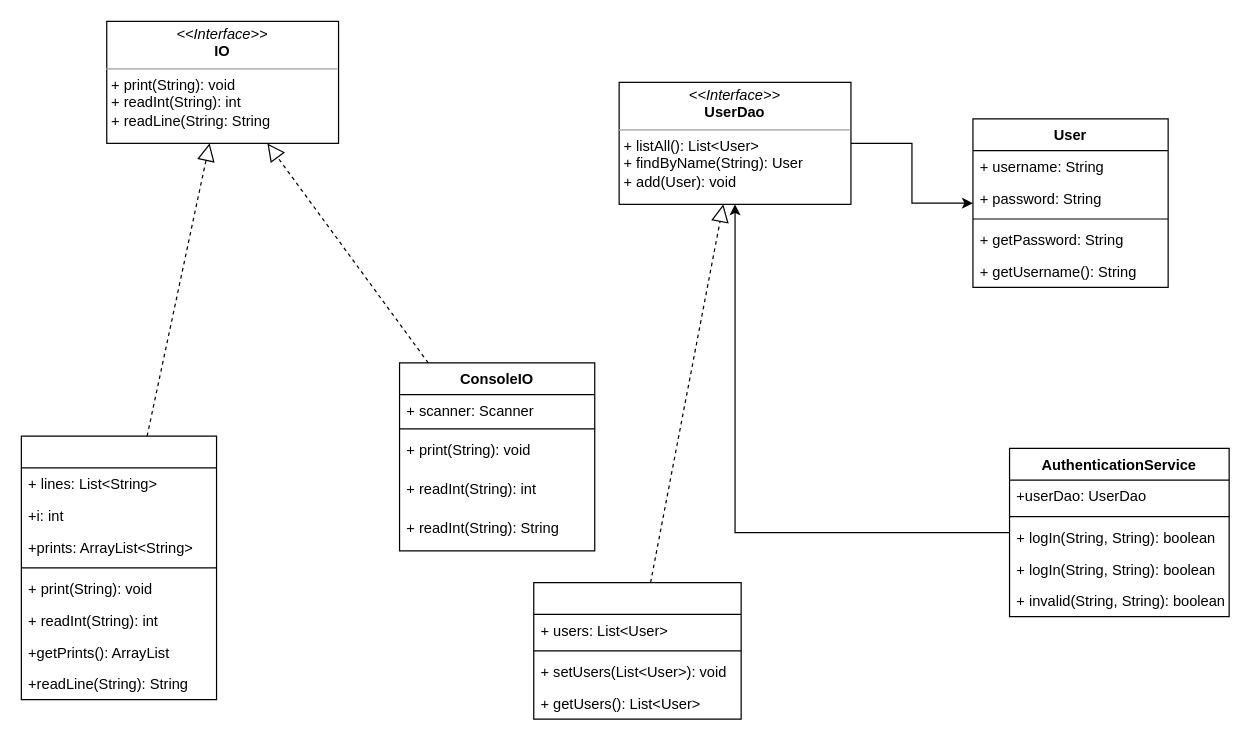
Image size: 1251x744. Some labels were removed from this diagram. The shapes that lost their labels are listed below. From the top down, each one's box as (x1, y1, x2, y2) in pixels, then its label:
(20, 435, 217, 700): StubIO
(533, 581, 741, 719): InMemoryUserDao
